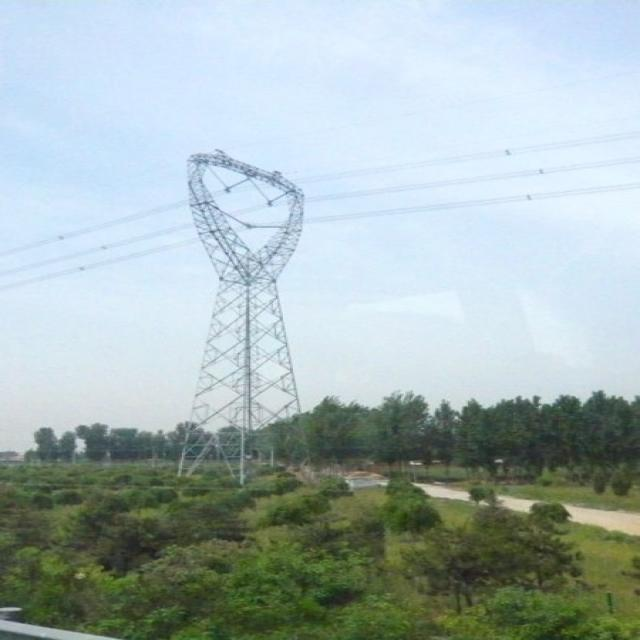non-critical vegetation: (161, 141, 330, 417)
